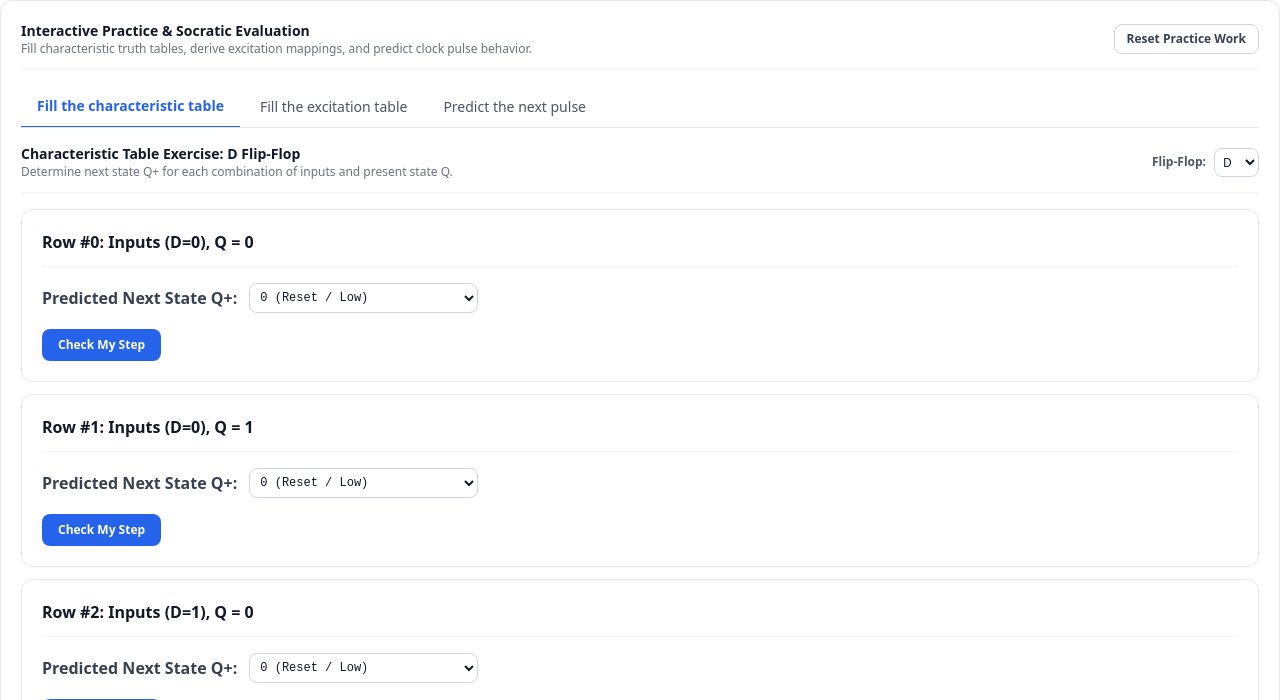
Test case: PracticePanel › handles pulse prediction correct and wrong paths
# Switch to pulse prediction tab
Click the tab "Predict the next pulse". click: (515, 106)
box: x1=427 y1=86 x2=602 y2=127
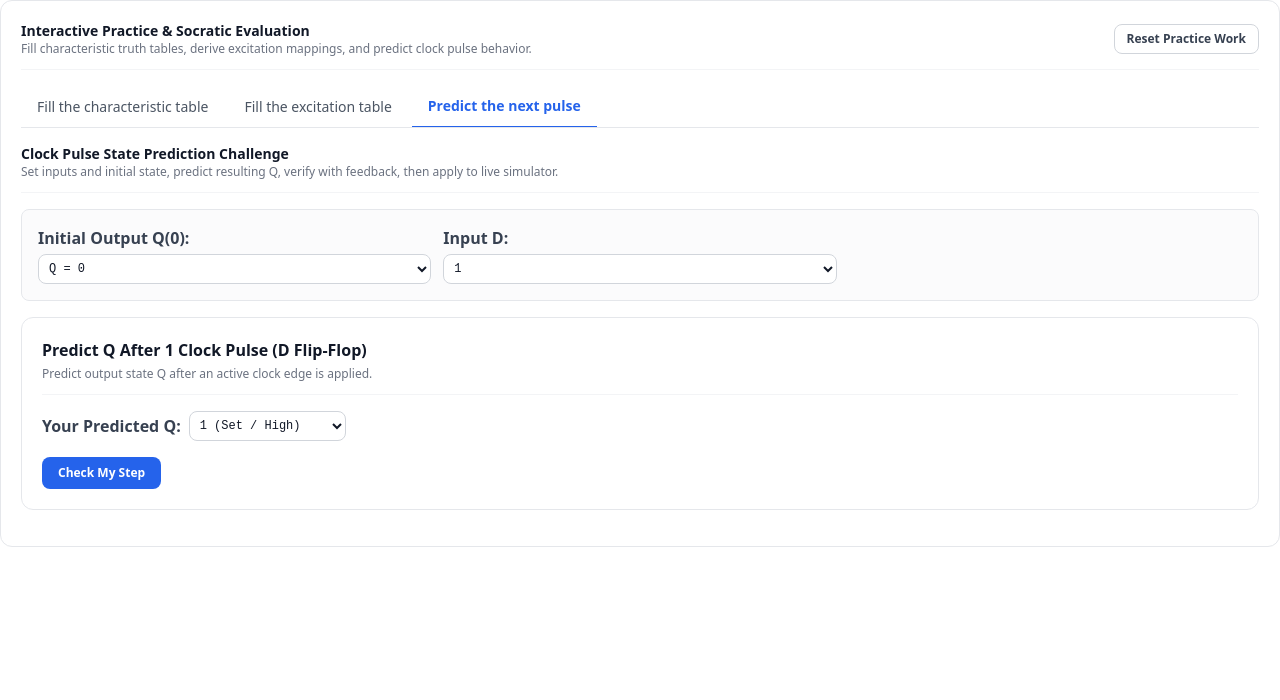
# Wrong answer: select 0
Select "0 (Reset / Low)" in the dropdown labelled "Your Predicted Q:". click: (267, 426)
box: x1=189 y1=411 x2=346 y2=441
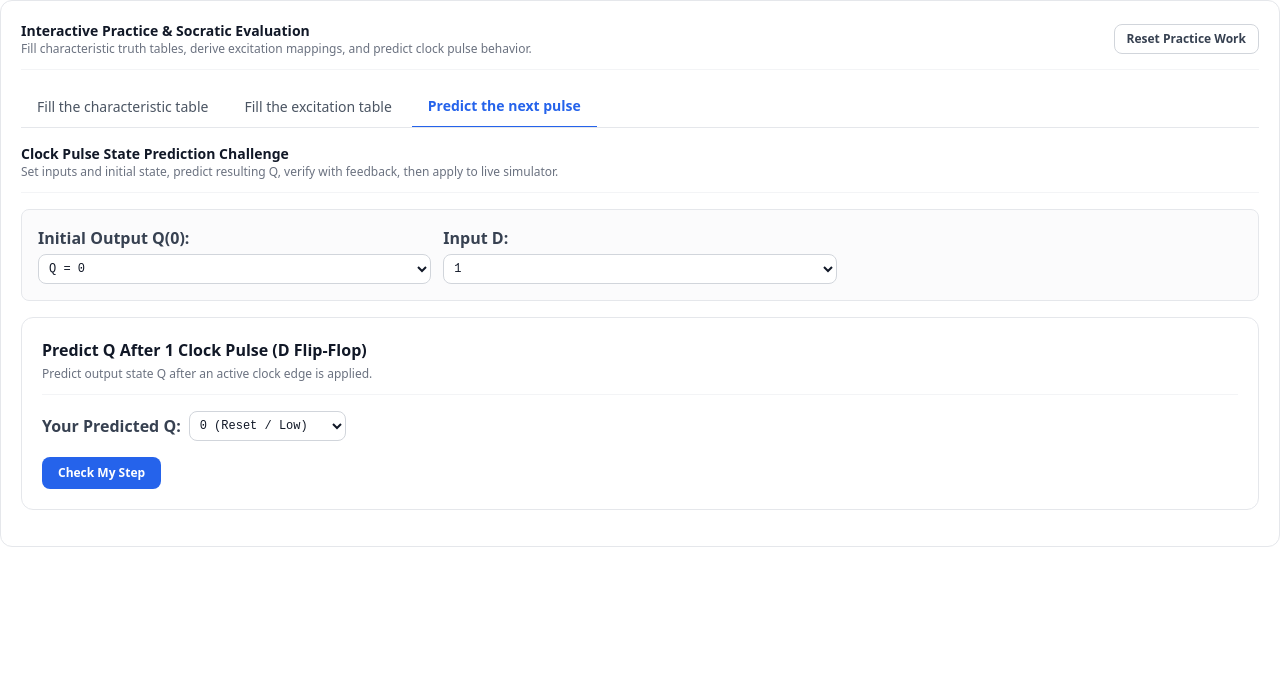
Click the button "Check My Step". click: (102, 473)
box: x1=42 y1=457 x2=161 y2=489
(page scrolled)
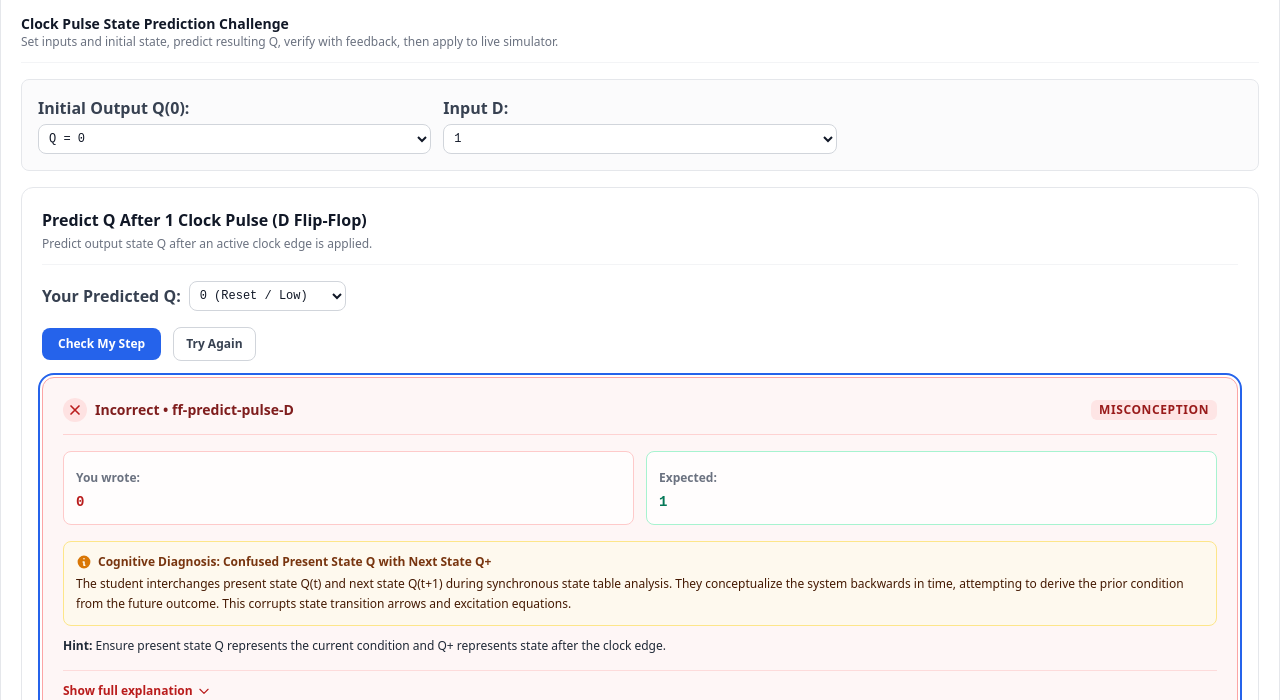
Now the text "Cognitive Diagnosis" is shown, box x1=98 y1=553 x2=223 y2=570
# Try again
Click the button "Try Again". click: (214, 344)
box: x1=173 y1=327 x2=256 y2=361
(page scrolled)
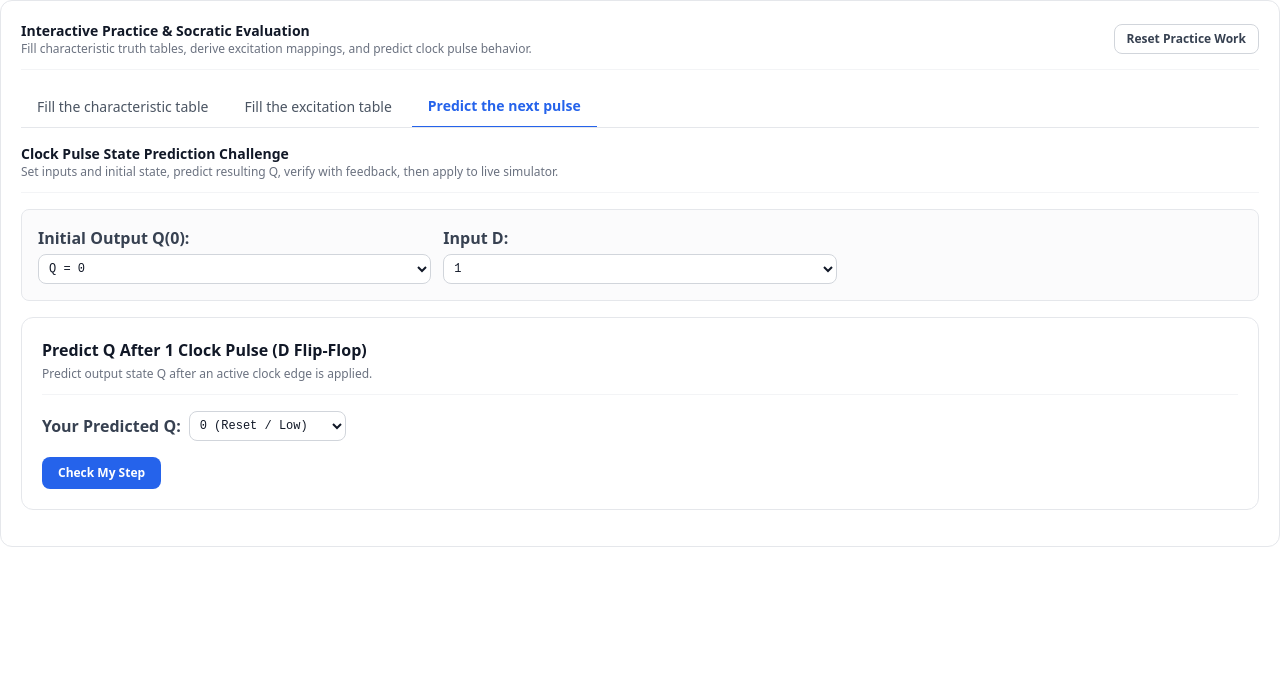
# Right answer: select 1
Select "1 (Set / High)" in the dropdown labelled "Your Predicted Q:". click: (267, 426)
box: x1=189 y1=411 x2=346 y2=441
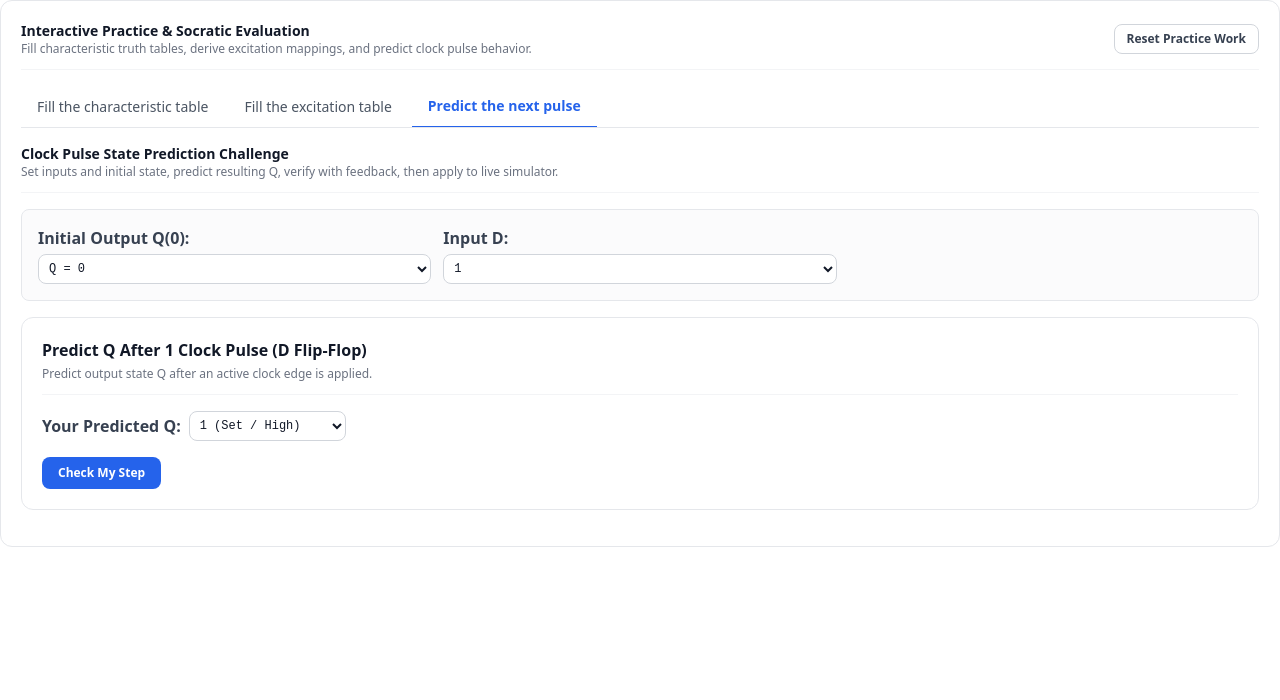
Click the button "Check My Step". click: (102, 473)
box: x1=42 y1=457 x2=161 y2=489
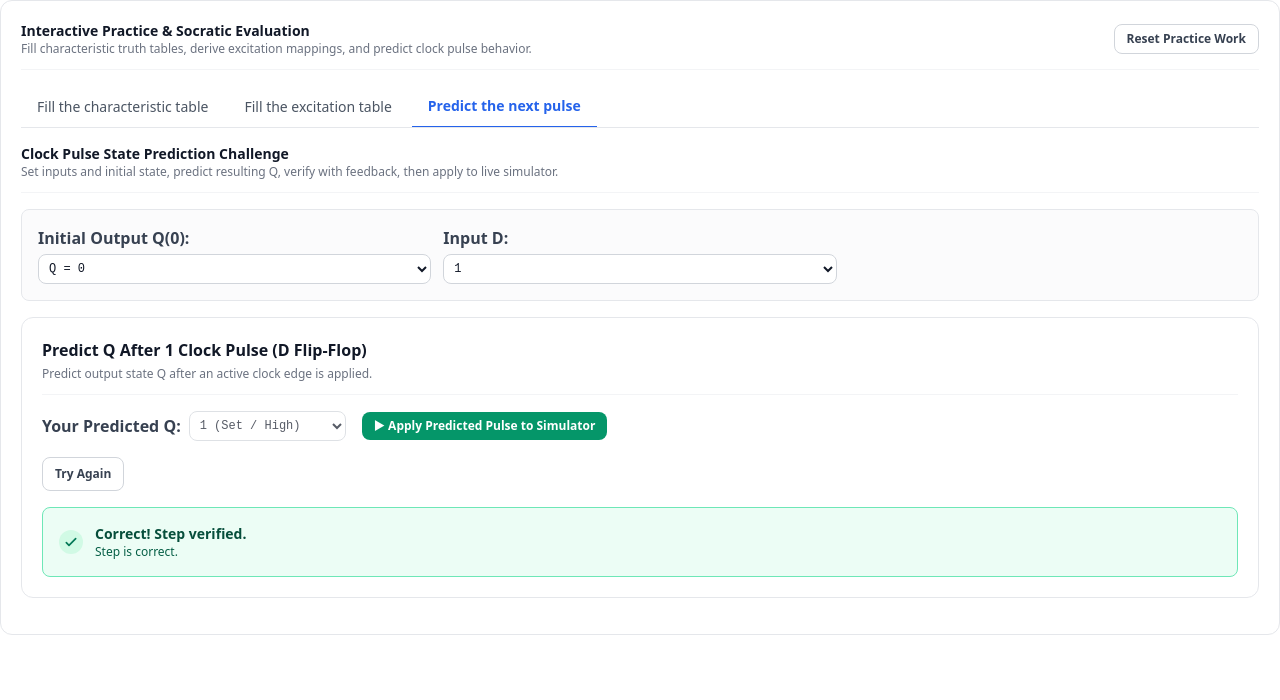
Now the text "Correct! Step verified." is shown, box x1=95 y1=524 x2=246 y2=544
Now the button "▶ Apply Predicted Pulse to Simulator" is shown, box x1=362 y1=412 x2=607 y2=440
